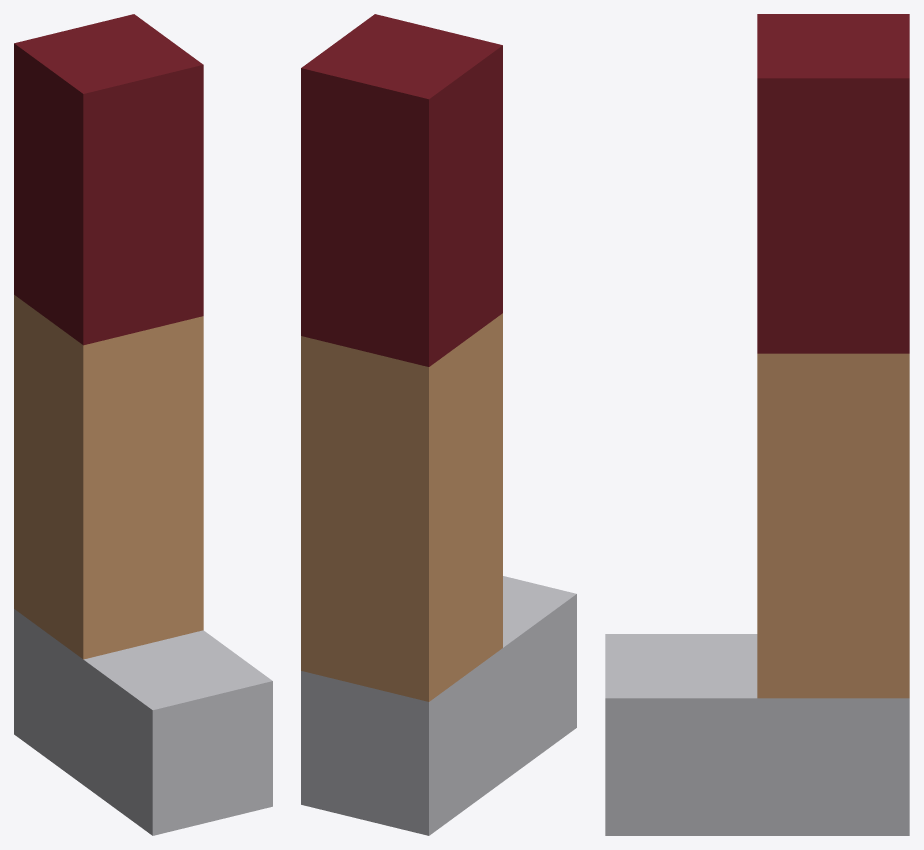
The model's file is leg.obj.
3 views of the same model, side by side, from view 1: azimuth 30°, elevation 25°; view 2: azimuth 150°, elevation 25°; view 3: azimuth 270°, elevation 25° (orthographic). The views are drawn at different scales.
Size of the model in its own units: 0.2 by 1.1 by 0.4.
Materials: 1 (1 with a texture image).
